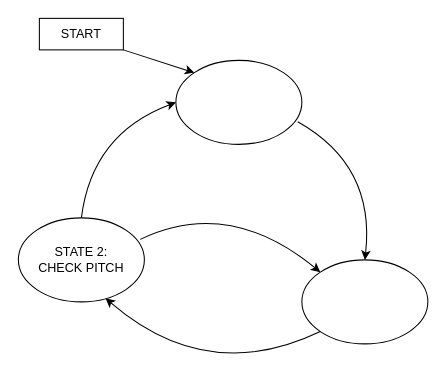
This 446x372 diagram has some shape labels left out. The box of each missing label's shape, as (x1, y1, x2, y2) in pixels:
STATE 0: SLEEP: (175, 59, 302, 144)
STATE 1: MOVE PITCH: (301, 259, 428, 344)
